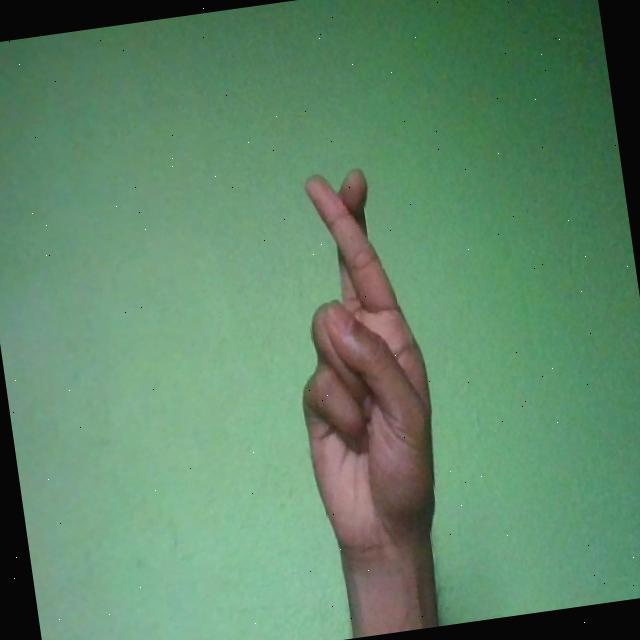Ok: (270, 161, 452, 566)
